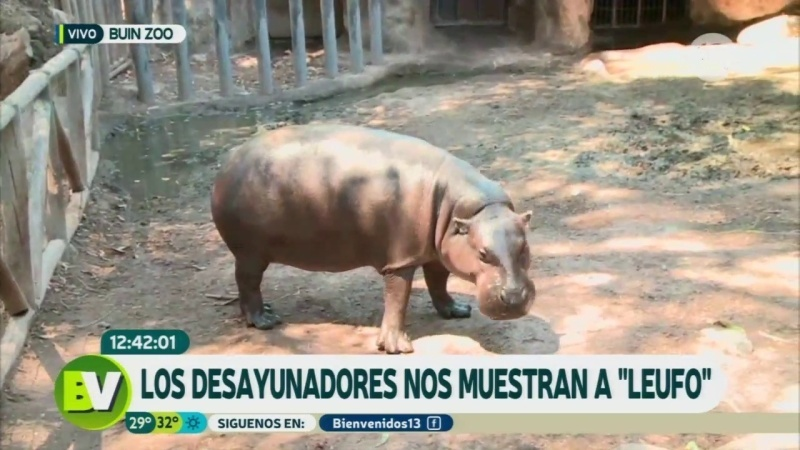hipopotamo: (191, 114, 561, 358)
